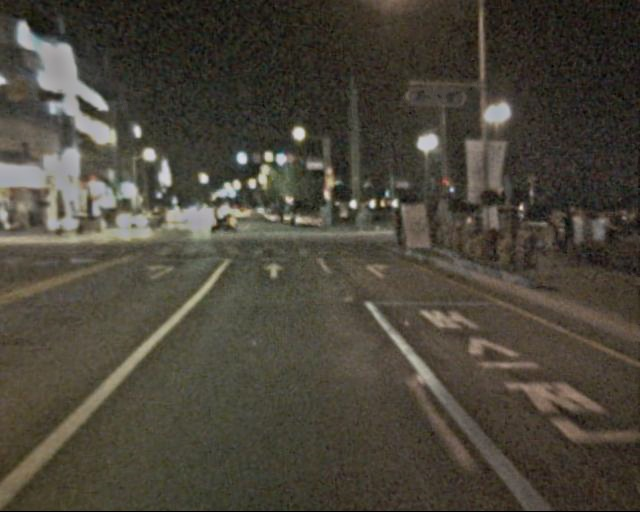person: (558, 211, 579, 263), (544, 210, 564, 259), (388, 214, 407, 261)
